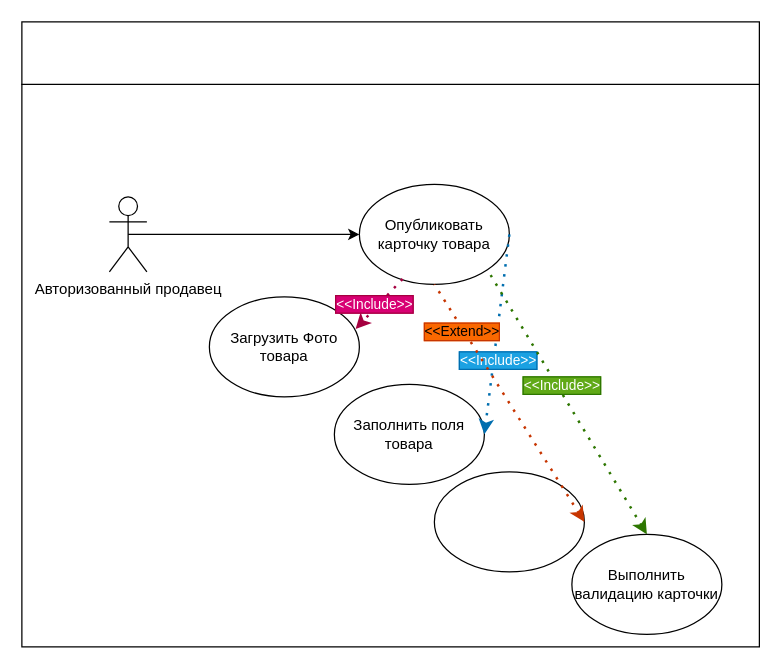
This 781x669 diagram has some shape labels left out. Here are the shapes that lost their labels. From the top down, the centre of each, then its label:
At pixel 390 52: "UML Диаграмма: Личный кабинет продавца (Модуль публикации карточки товара)".
At pixel 508 521: "Сохранить карточку как чернови".
